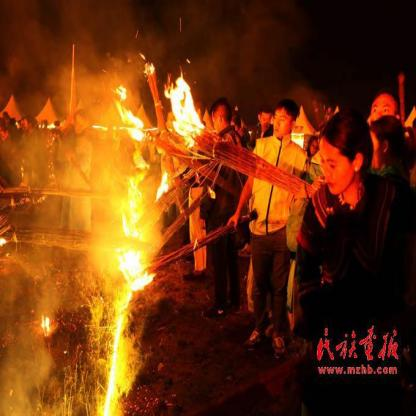fire: (38, 31, 204, 414)
